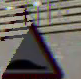Speed Breaker ahead: (4, 1, 61, 78)
